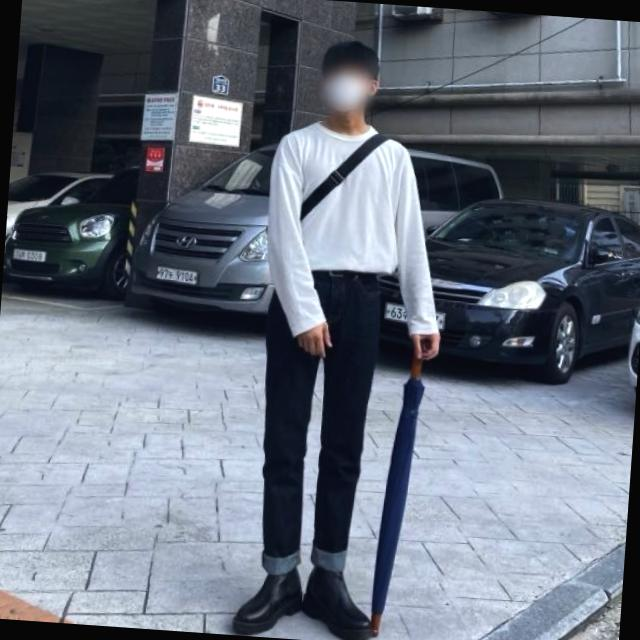denimpants: (250, 258, 386, 582)
longsleeve: (260, 114, 452, 348)
